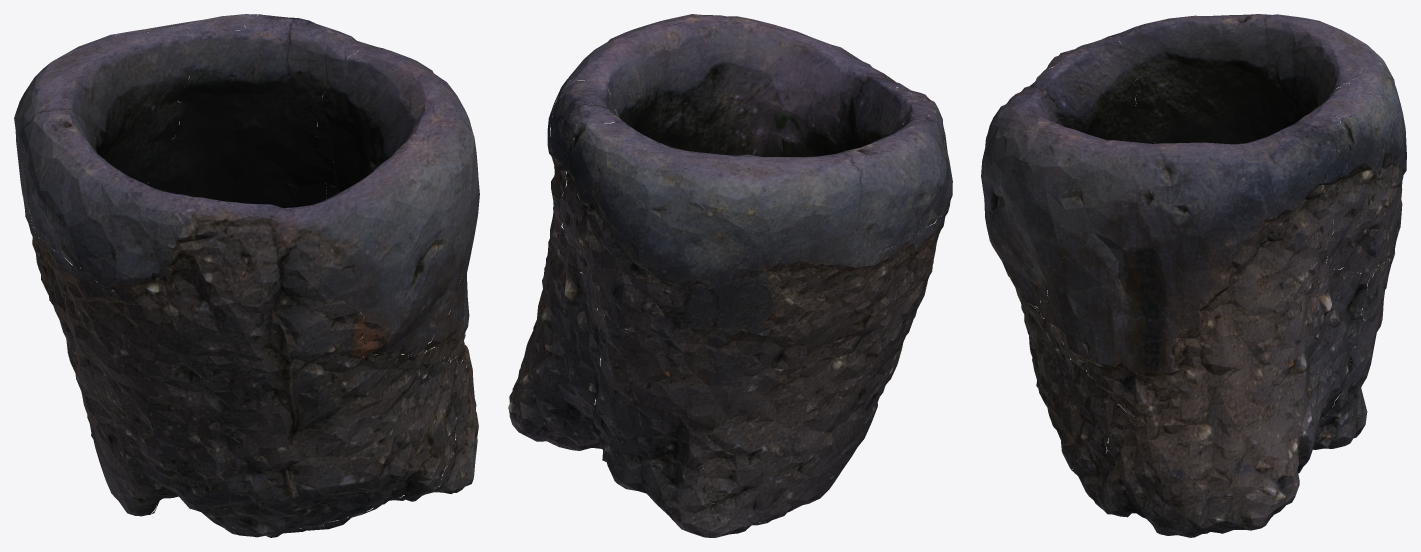
Rendered from Objeto_09_4k-b.glb.
3 views of the same model, side by side, from view 1: azimuth 30°, elevation 25°; view 2: azimuth 150°, elevation 25°; view 3: azimuth 270°, elevation 25° (orthographic). The views are drawn at different scales.
Visible parts, largest first — view 1: Mesh_0; view 2: Mesh_0; view 3: Mesh_0.
Part boxes in pixels (x1,y1,x2,y2): Mesh_0: [14, 14, 479, 537]; Mesh_0: [508, 14, 952, 537]; Mesh_0: [981, 14, 1406, 537].
Bounding box in the file's own units: 0.0644 × 0.0622 × 0.0624.
1 material, 1 textured.
